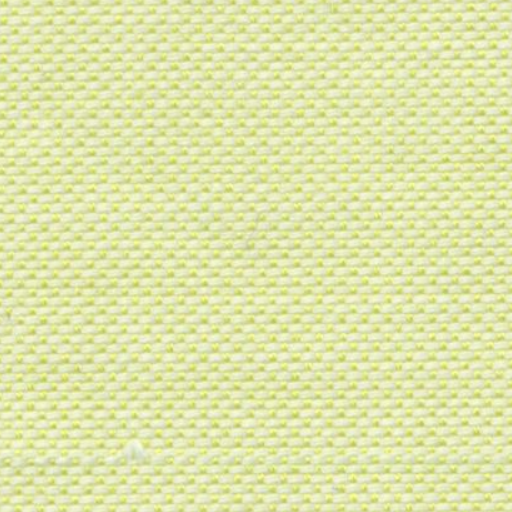TuoSha: (37, 426, 494, 486)
